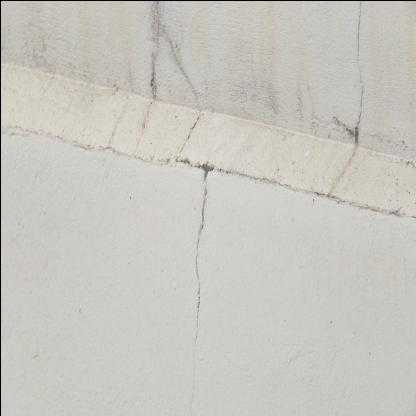crack: (188, 172, 208, 416), (354, 2, 365, 140)
